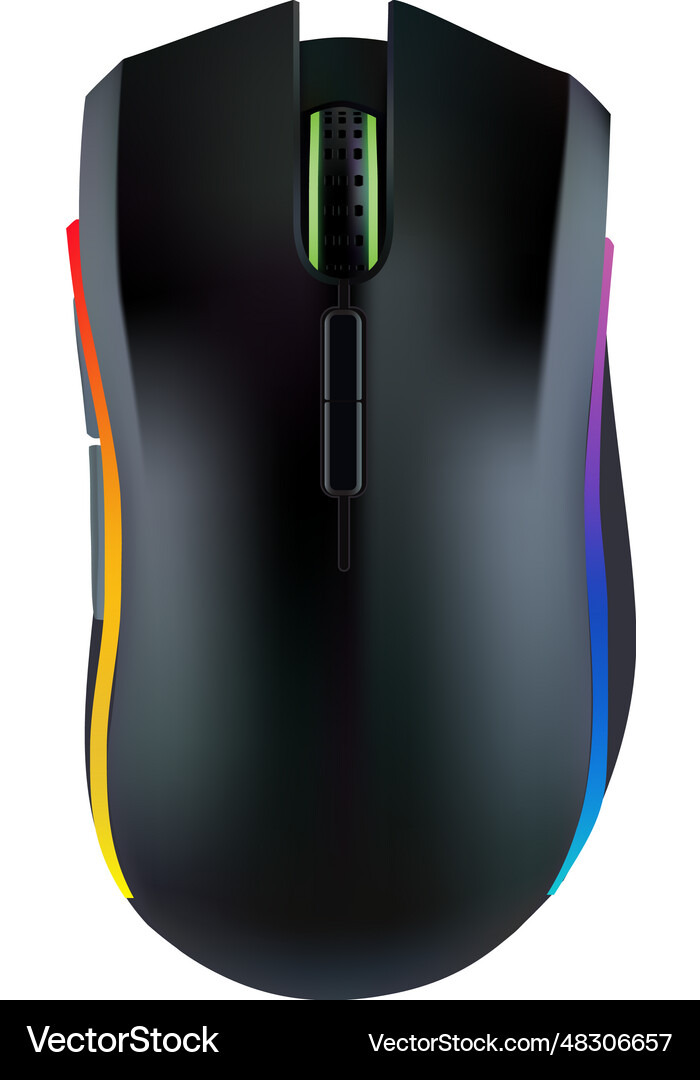mouse: (64, 1, 638, 1001)
